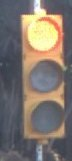Red: (12, 8, 68, 144)
